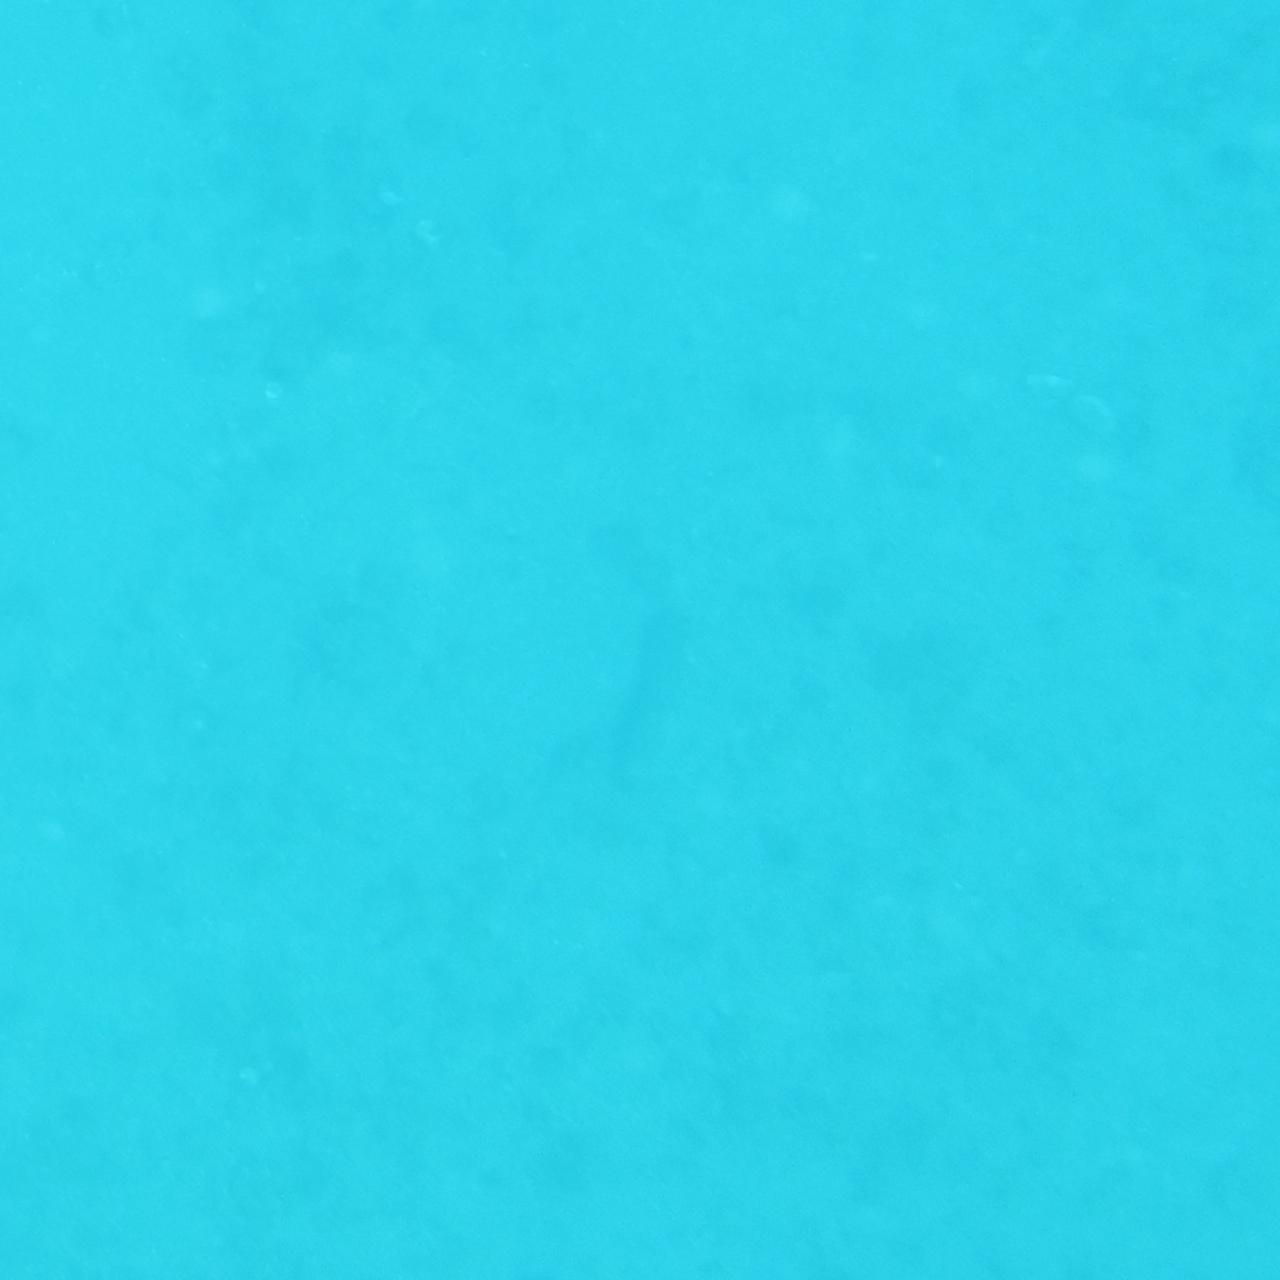Holothuria tubulosa: (572, 496, 708, 784)
